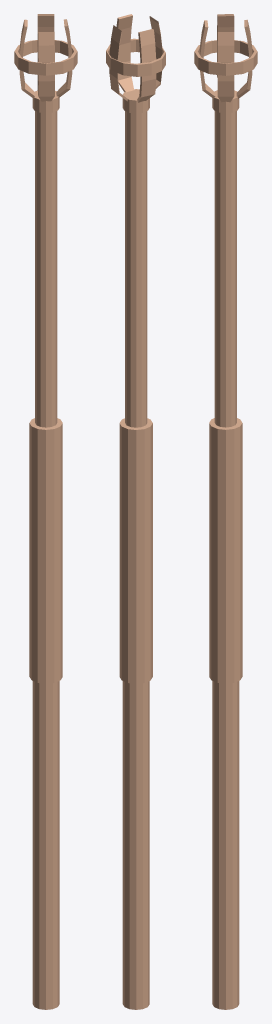
Rendered from TOCHA.fbx.
3 renders of one model, left to right at view 1: azimuth 90°, elevation 25°; view 2: azimuth 210°, elevation 25°; view 3: azimuth 270°, elevation 25°, orthographic.
Visible parts, largest first — view 1: Plane.001; view 2: Plane.001; view 3: Plane.001.
Part boxes in pixels (x1,y1,x2,y2): Plane.001: (14,14,77,1009); Plane.001: (106,14,165,1009); Plane.001: (194,14,257,1009).
Size of the model in its own units: 42.4 by 784 by 45.63.
